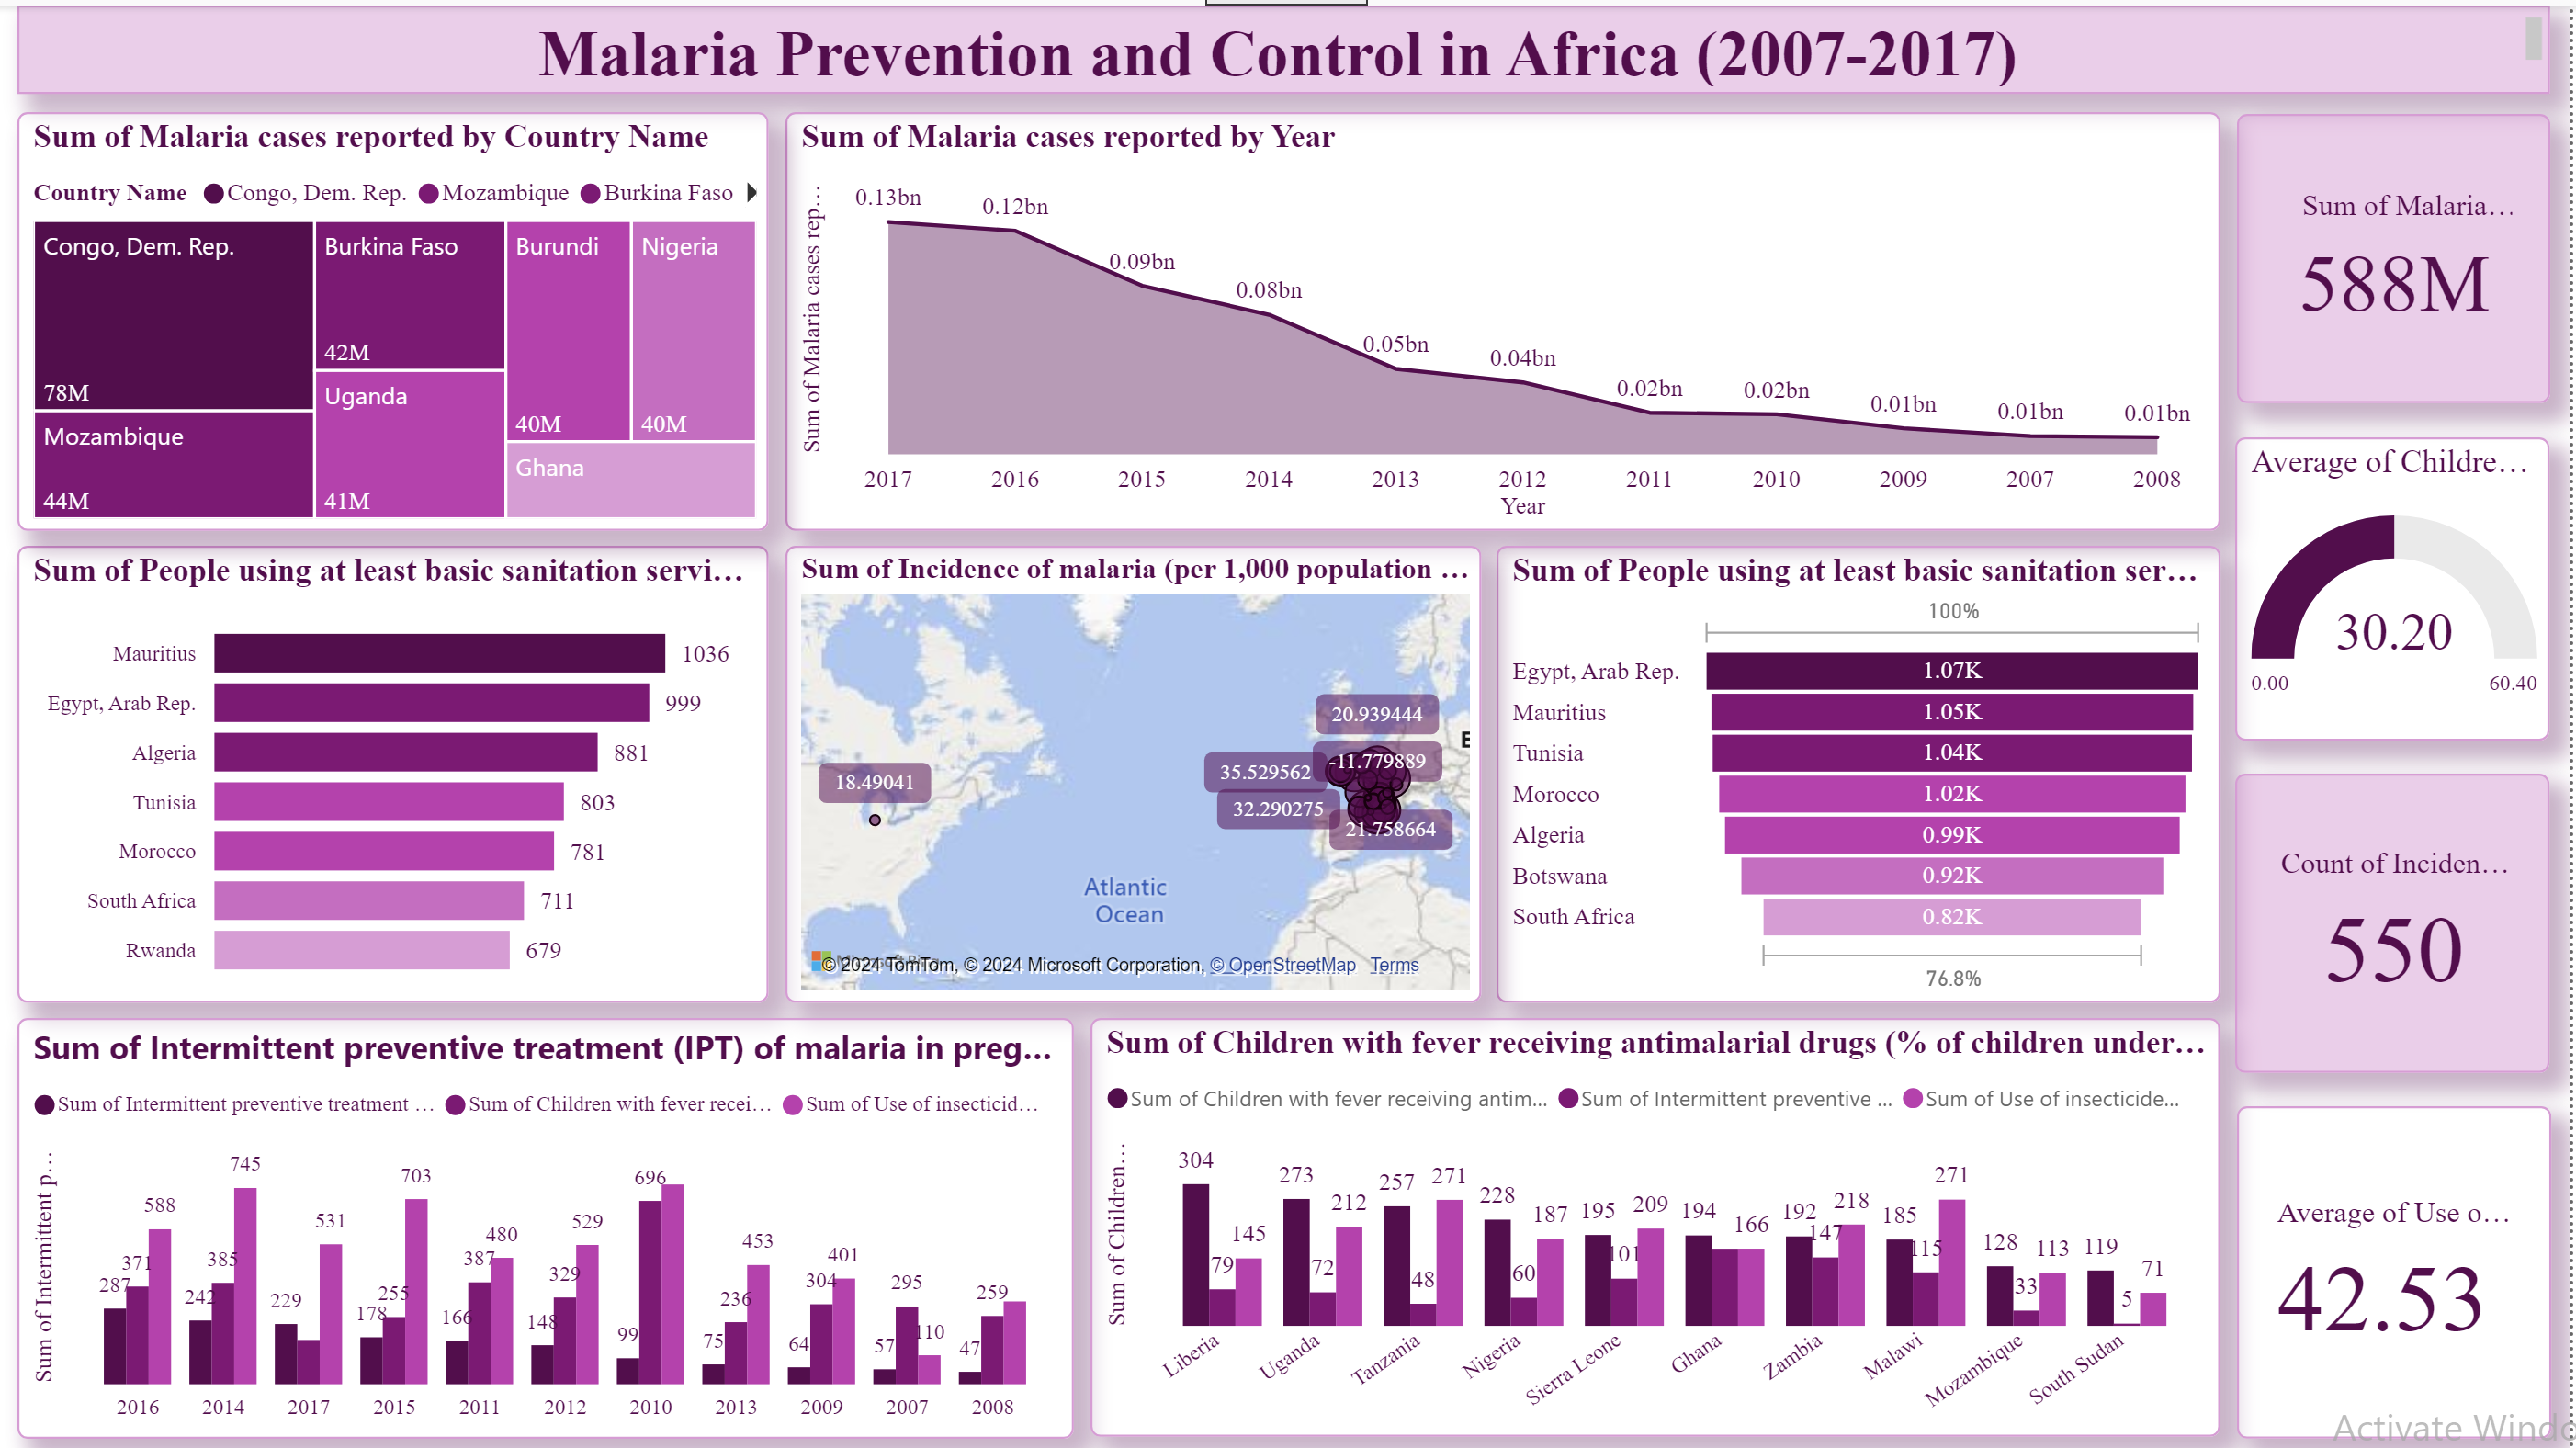

The dashboard page shown, as its layout file describes it:
{"tool":"powerbi","page":{"name":"Page 1","canvas":[1280,720],"ordinal":0},"visuals":[{"type":"textbox","box":[9.5,0,1261,44],"z":0},{"type":"areaChart","fields":{"Category":["DatasetAfricaMalaria.Year"],"Y":["Sum(DatasetAfricaMalaria.Malaria cases reported)"]},"box":[391.8,53.4,714.4,208.4],"z":1000},{"type":"barChart","fields":{"Y":["Sum(DatasetAfricaMalaria.People using at least basic sanitation services, rural (% of rural population))"],"Category":["DatasetAfricaMalaria.Country Name"]},"box":[9.4,269.2,373.9,227.3],"z":2000},{"type":"funnel","fields":{"Category":["DatasetAfricaMalaria.Country Name"],"Y":["Sum(DatasetAfricaMalaria.People using at least basic sanitation services, urban  (% of urban population))"]},"box":[745.8,269.2,360.3,227.3],"z":3000},{"type":"map","fields":{"Category":["DatasetAfricaMalaria.latitude","DatasetAfricaMalaria.longitude"],"Size":["Sum(DatasetAfricaMalaria.Incidence of malaria (per 1,000 population at risk))"]},"box":[391.8,269.2,346.7,227.3],"z":4000},{"type":"clusteredColumnChart","fields":{"Category":["DatasetAfricaMalaria.Year"],"Y":["Sum(DatasetAfricaMalaria.Intermittent preventive treatment (IPT) of malaria in pregnancy (% of pregnant women))","Sum(DatasetAfricaMalaria.Children with fever receiving antimalarial drugs (% of children under age 5 with fever))","Sum(DatasetAfricaMalaria.Use of insecticide-treated bed nets (% of under-5 population))"]},"box":[9.4,503.8,525.8,209.5],"z":5000},{"type":"clusteredColumnChart","fields":{"Category":["DatasetAfricaMalaria.Country Name"],"Y":["Sum(DatasetAfricaMalaria.Children with fever receiving antimalarial drugs (% of children under age 5 with fever))","Sum(DatasetAfricaMalaria.Intermittent preventive treatment (IPT) of malaria in pregnancy (% of pregnant women))","Sum(DatasetAfricaMalaria.Use of insecticide-treated bed nets (% of under-5 population))"]},"box":[543.6,503.8,562.5,208.4],"z":6000},{"type":"treemap","fields":{"Group":["DatasetAfricaMalaria.Country Name"],"Values":["Sum(DatasetAfricaMalaria.Malaria cases reported)"]},"box":[9.4,53.4,373.9,208.4],"z":7000},{"type":"cardVisual","fields":{"Data":["Sum(DatasetAfricaMalaria.Malaria cases reported)"]},"box":[1114.6,53.5,155.8,143.9],"z":8000},{"type":"gauge","fields":{"Y":["Avg(DatasetAfricaMalaria.Children with fever receiving antimalarial drugs (% of children under age 5 with fever))"]},"box":[1113.4,215,156.4,151],"z":9000},{"type":"cardVisual","fields":{"Data":["CountNonNull(DatasetAfricaMalaria.Incidence of malaria (per 1,000 population at risk))"]},"box":[1113.4,382.4,156.4,149.1],"z":10000},{"type":"cardVisual","fields":{"Data":["Avg(DatasetAfricaMalaria.Use of insecticide-treated bed nets (% of under-5 population))"]},"box":[1114.3,548.4,156.4,165.7],"z":11000}]}

Visuals, with their boxes in screenshot pixels (x1, y1, x2, y2), scaled from the page's 1280x720 canvas onto the 2576x1448 screenshot:
textbox: l=19, t=0, r=2557, b=88
areaChart - DatasetAfricaMalaria.Year x Sum(DatasetAfricaMalaria.Malaria cases reported): l=788, t=107, r=2226, b=526
barChart - Sum(DatasetAfricaMalaria.People using at least basic sanitation services, rural (% of rural population)) x DatasetAfricaMalaria.Country Name: l=19, t=541, r=772, b=999
funnel - DatasetAfricaMalaria.Country Name x Sum(DatasetAfricaMalaria.People using at least basic sanitation services, urban  (% of urban population)): l=1501, t=541, r=2226, b=999
map - DatasetAfricaMalaria.latitude x DatasetAfricaMalaria.longitude: l=788, t=541, r=1486, b=999
clusteredColumnChart - DatasetAfricaMalaria.Year x Sum(DatasetAfricaMalaria.Intermittent preventive treatment (IPT) of malaria in pregnancy (% of pregnant women)): l=19, t=1013, r=1077, b=1434
clusteredColumnChart - DatasetAfricaMalaria.Country Name x Sum(DatasetAfricaMalaria.Children with fever receiving antimalarial drugs (% of children under age 5 with fever)): l=1094, t=1013, r=2226, b=1432
treemap - DatasetAfricaMalaria.Country Name x Sum(DatasetAfricaMalaria.Malaria cases reported): l=19, t=107, r=772, b=526
cardVisual - Sum(DatasetAfricaMalaria.Malaria cases reported): l=2243, t=107, r=2557, b=397
gauge - Avg(DatasetAfricaMalaria.Children with fever receiving antimalarial drugs (% of children under age 5 with fever)): l=2241, t=433, r=2556, b=736
cardVisual - CountNonNull(DatasetAfricaMalaria.Incidence of malaria (per 1,000 population at risk)): l=2241, t=769, r=2556, b=1069
cardVisual - Avg(DatasetAfricaMalaria.Use of insecticide-treated bed nets (% of under-5 population)): l=2243, t=1103, r=2558, b=1436
